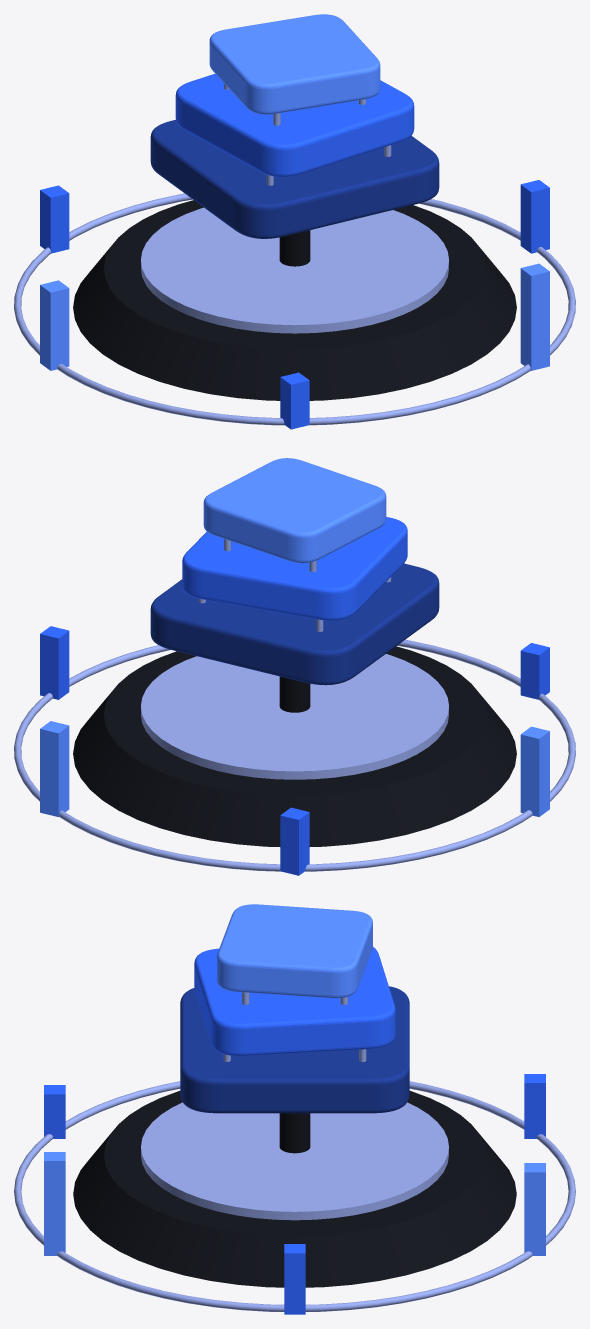
Rendered from datamind-stack.glb.
The picture shows the model from 3 angles, top to bottom: view 1: azimuth 30°, elevation 25°; view 2: azimuth 150°, elevation 25°; view 3: azimuth 270°, elevation 25°; orthographic projection.
Parts seen in each view (by area): view 1: pedestal_base, pedestal_collar, layer_bottom, layer_middle, layer_top, halo_ring, data_bar_1, data_bar_3, data_bar_0, data_bar_4, data_bar_2, center_post; view 2: pedestal_base, pedestal_collar, layer_bottom, layer_top, layer_middle, halo_ring, data_bar_5, data_bar_3, data_bar_0, data_bar_4, data_bar_2, center_post; view 3: pedestal_base, pedestal_collar, layer_bottom, layer_middle, layer_top, halo_ring, data_bar_1, data_bar_5, data_bar_0, data_bar_4, center_post, data_bar_2.
Part boxes in pixels (x1=…): pedestal_base: x1=73, y1=200, x2=516, y2=400; pedestal_collar: x1=141, y1=207, x2=448, y2=333; layer_bottom: x1=150, y1=119, x2=439, y2=238; layer_middle: x1=175, y1=73, x2=414, y2=177; layer_top: x1=209, y1=14, x2=380, y2=114; halo_ring: x1=14, y1=193, x2=575, y2=425; data_bar_1: x1=520, y1=263, x2=549, y2=370; data_bar_3: x1=40, y1=280, x2=69, y2=370; data_bar_0: x1=520, y1=180, x2=549, y2=253; data_bar_4: x1=40, y1=185, x2=69, y2=253; data_bar_2: x1=280, y1=372, x2=309, y2=429; center_post: x1=279, y1=230, x2=310, y2=266; pedestal_base: x1=73, y1=646, x2=516, y2=846; pedestal_collar: x1=141, y1=654, x2=448, y2=779; layer_bottom: x1=150, y1=563, x2=439, y2=685; layer_top: x1=203, y1=458, x2=386, y2=563; layer_middle: x1=182, y1=517, x2=407, y2=620; halo_ring: x1=14, y1=639, x2=575, y2=871; data_bar_5: x1=40, y1=721, x2=69, y2=816; data_bar_3: x1=520, y1=726, x2=549, y2=816; data_bar_0: x1=40, y1=626, x2=69, y2=699; data_bar_4: x1=280, y1=807, x2=309, y2=875; data_bar_2: x1=520, y1=643, x2=549, y2=699; center_post: x1=279, y1=676, x2=310, y2=712; pedestal_base: x1=73, y1=1091, x2=516, y2=1287; pedestal_collar: x1=141, y1=1102, x2=448, y2=1220; layer_bottom: x1=180, y1=986, x2=409, y2=1113; layer_middle: x1=194, y1=947, x2=395, y2=1056; layer_top: x1=217, y1=904, x2=372, y2=998; halo_ring: x1=14, y1=1081, x2=575, y2=1311; data_bar_1: x1=44, y1=1152, x2=65, y2=1255; data_bar_5: x1=524, y1=1163, x2=545, y2=1255; data_bar_0: x1=284, y1=1244, x2=305, y2=1314; data_bar_4: x1=524, y1=1074, x2=545, y2=1138; center_post: x1=279, y1=1113, x2=310, y2=1153; data_bar_2: x1=44, y1=1085, x2=65, y2=1138.
Size of the model in its own units: 1.87 by 0.9264 by 1.82.
